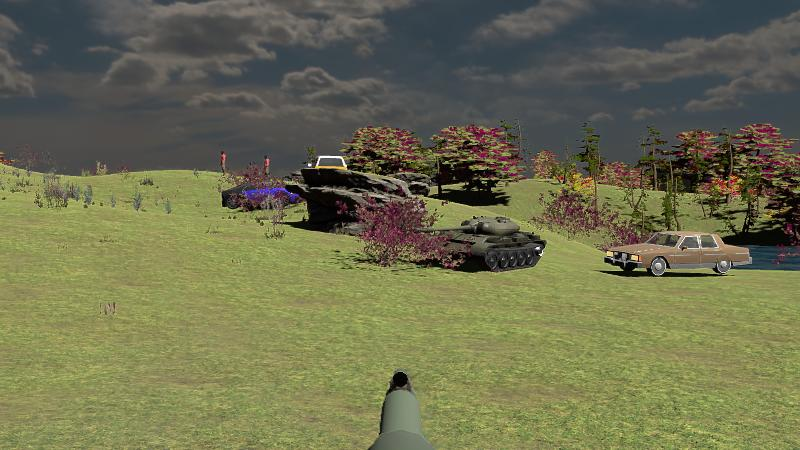Tank: (408, 214, 547, 274)
car: (602, 231, 752, 277), (221, 180, 301, 212)
